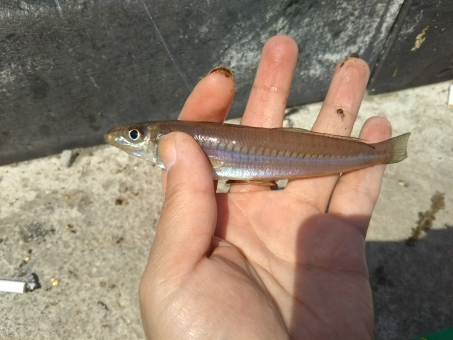kiss: (98, 113, 418, 178)
